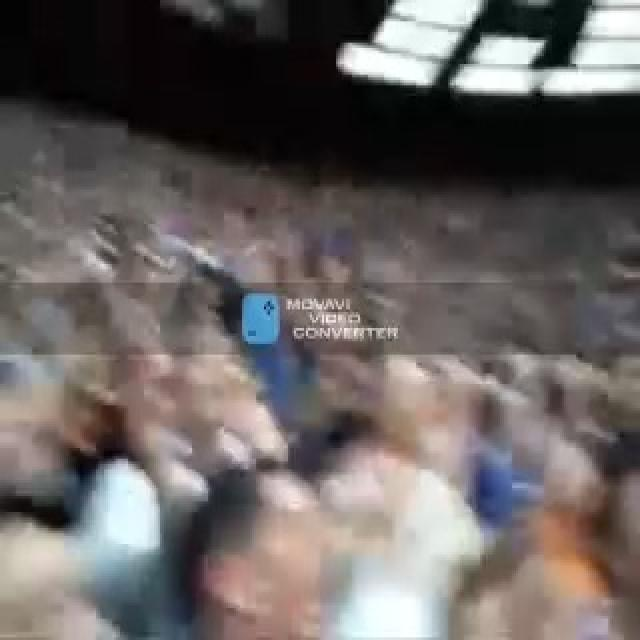non-voilence: (282, 290, 400, 346), (238, 288, 282, 347)
